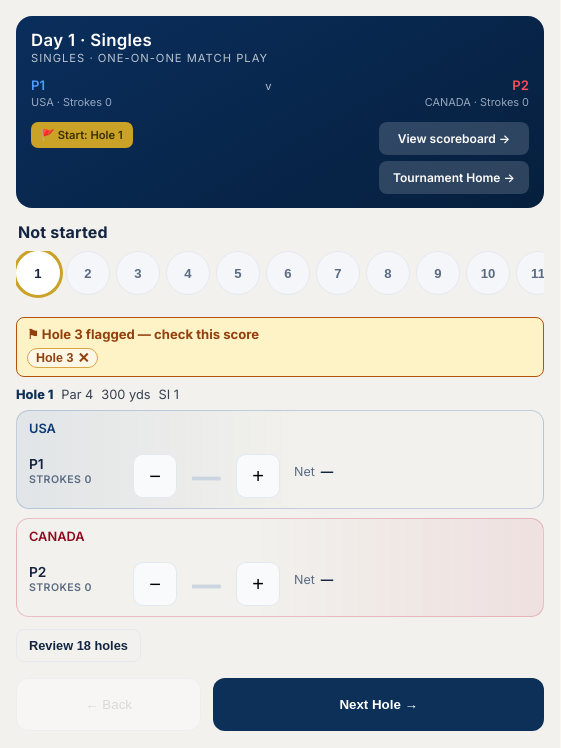
Test: match scorecard — flag this hole (B) › the scorer can dismiss the flag; a non-scorer has no flag button on an unclaimed match
Click the button with test id "flag-resolve-500-3": (83, 358) x1=77 y1=351 x2=90 y2=365
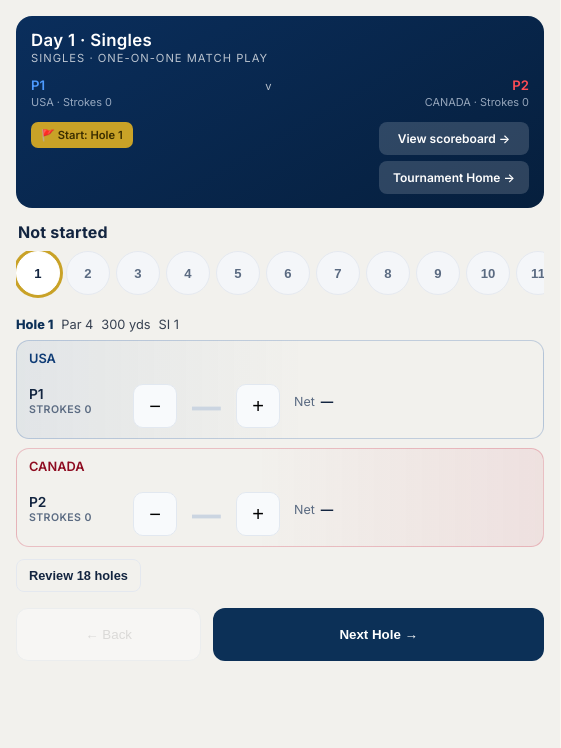
expect the element with test id "flag-marker-500" is gone: met
